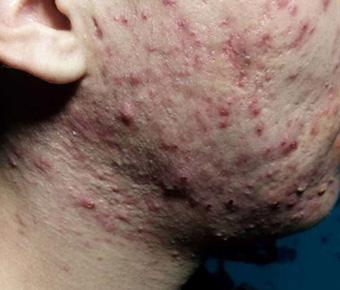fore: (109, 6, 133, 31), (213, 32, 236, 54), (75, 193, 95, 217), (112, 67, 132, 90), (175, 167, 198, 186), (257, 134, 274, 159), (255, 30, 274, 50), (106, 179, 124, 200), (118, 99, 136, 119), (215, 118, 233, 138), (267, 192, 284, 213), (155, 0, 182, 13), (241, 181, 260, 199), (68, 123, 86, 142), (176, 32, 196, 49), (117, 152, 142, 165), (287, 207, 304, 226), (283, 35, 304, 50), (215, 100, 233, 117), (127, 70, 143, 89), (156, 179, 175, 195), (156, 134, 175, 150), (97, 65, 118, 79), (277, 139, 294, 156), (170, 15, 189, 30), (139, 10, 158, 25), (287, 5, 308, 18), (128, 178, 144, 195), (129, 222, 147, 237), (314, 181, 330, 197), (202, 215, 218, 231), (218, 181, 235, 196), (176, 67, 197, 79), (294, 20, 309, 36), (235, 68, 252, 82), (95, 102, 112, 116), (147, 86, 162, 101), (192, 192, 207, 207), (260, 163, 276, 177), (238, 50, 251, 67), (244, 103, 260, 116), (147, 199, 159, 216), (236, 152, 253, 164), (294, 180, 305, 198), (220, 213, 238, 224), (205, 234, 229, 242), (35, 154, 49, 167), (184, 52, 199, 64), (285, 69, 301, 80), (145, 43, 159, 55), (197, 122, 209, 135), (96, 172, 110, 183), (314, 0, 329, 10), (268, 4, 285, 12), (251, 122, 262, 134), (251, 218, 260, 231), (105, 123, 114, 132)
